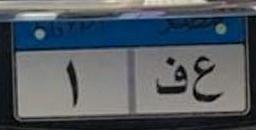1: (65, 57, 79, 108)
ain: (192, 54, 220, 102)
faa: (152, 54, 189, 97)
